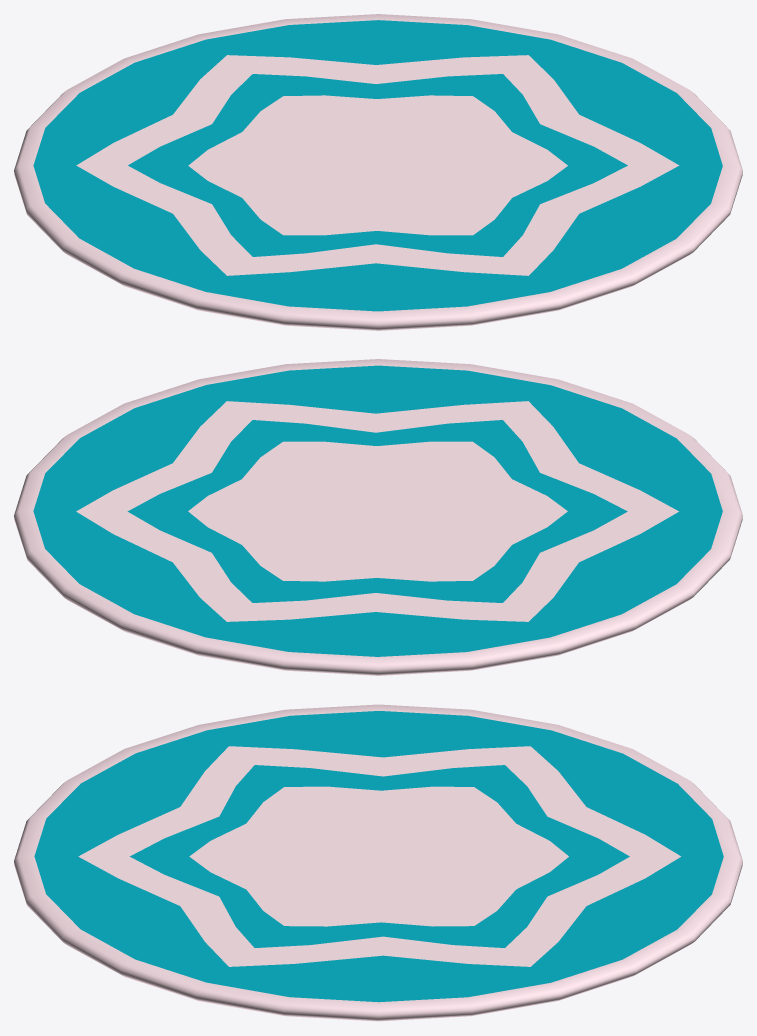
The model's file is Store_5_Napkin_1.glb.
3 views of the same model, one above another, from view 1: azimuth 30°, elevation 25°; view 2: azimuth 150°, elevation 25°; view 3: azimuth 270°, elevation 25° (orthographic).
Visible parts, largest first — view 1: Store_5_Napkin_1; view 2: Store_5_Napkin_1; view 3: Store_5_Napkin_1.
Part boxes in pixels (x1=…): Store_5_Napkin_1: x1=14, y1=14, x2=742, y2=330; Store_5_Napkin_1: x1=14, y1=359, x2=742, y2=675; Store_5_Napkin_1: x1=14, y1=704, x2=742, y2=1021.
Size of the model in its own units: 0.3994 by 0.00794 by 0.3994.
1 material, 1 textured.
